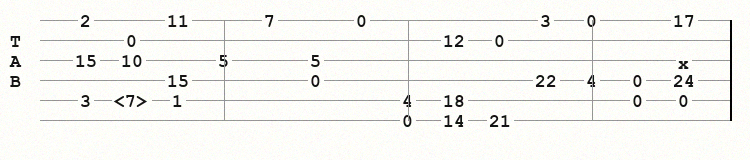0: (126, 32, 141, 48), (310, 72, 325, 88), (356, 12, 371, 28), (402, 112, 417, 128), (494, 32, 509, 48), (586, 12, 601, 28), (632, 92, 647, 108), (632, 72, 647, 88), (678, 92, 693, 108)
1: (172, 92, 187, 108)
10: (121, 52, 147, 68)
11: (167, 12, 193, 28)
12: (443, 32, 469, 48)
14: (443, 112, 469, 128)
15: (75, 52, 101, 68), (167, 72, 193, 88)
17: (673, 12, 699, 28)
18: (443, 92, 469, 108)
2: (80, 12, 95, 28)
21: (489, 112, 515, 128)
22: (535, 72, 561, 88)
24: (673, 72, 699, 88)
3: (80, 92, 95, 108), (540, 12, 555, 28)
4: (402, 92, 417, 108), (586, 72, 601, 88)
5: (218, 52, 233, 68), (310, 52, 325, 68)
7: (264, 12, 279, 28)
harmonic: (114, 92, 153, 108)
x: (678, 54, 693, 66)
